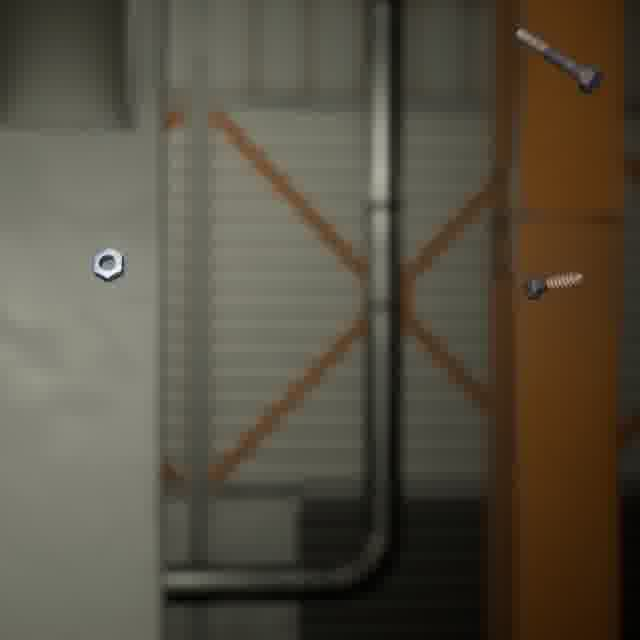bolt: (510, 23, 607, 98), (517, 266, 587, 303)
nut: (88, 243, 128, 287)
